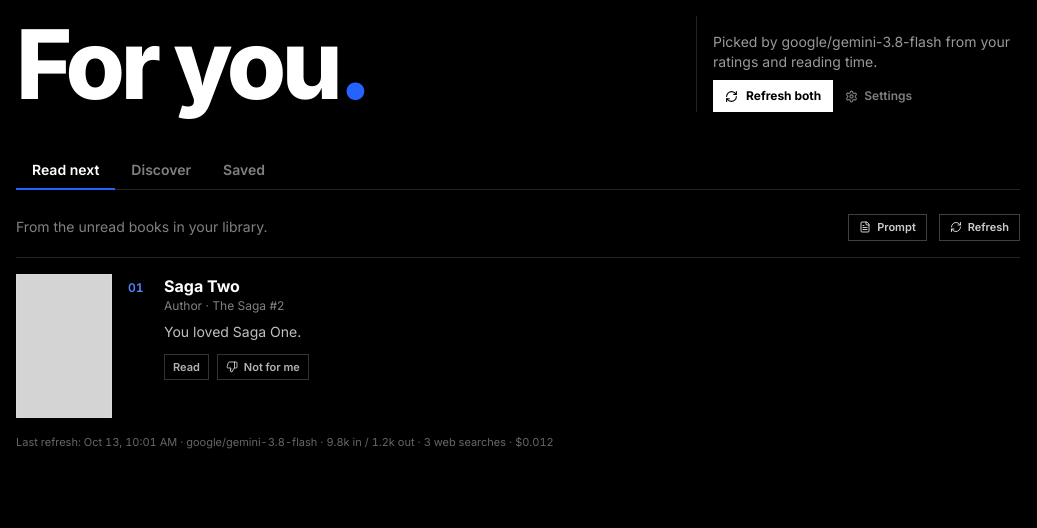
Scenario: Recommendations page › refreshes and shows progress
What coordinates should you click on to do the following:
click the button with test id "refresh-all"
I would click on:
 (773, 96)
Its box is left=713, top=80, right=833, bottom=112.
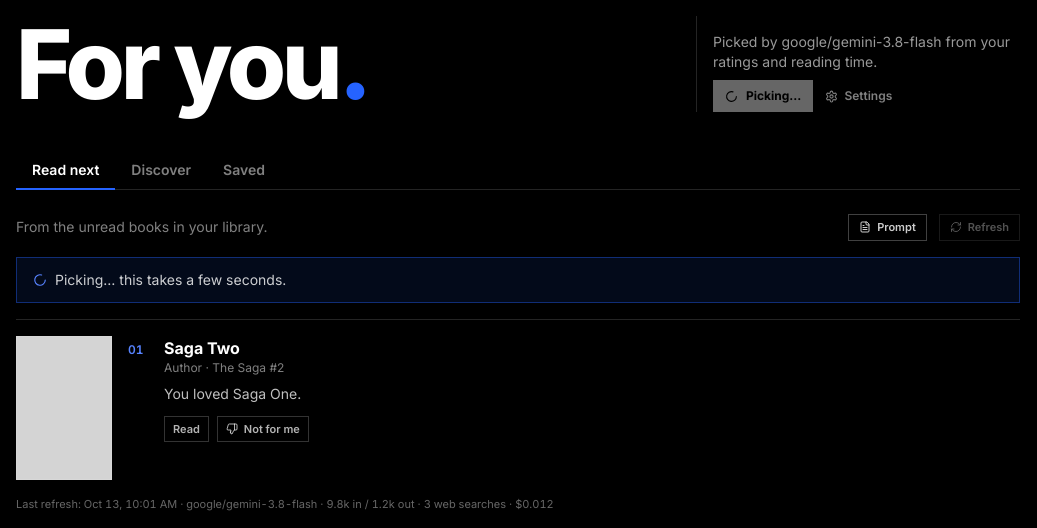
expect the element with test id "recs-running" is shown: met, box left=16, top=256, right=1020, bottom=302
